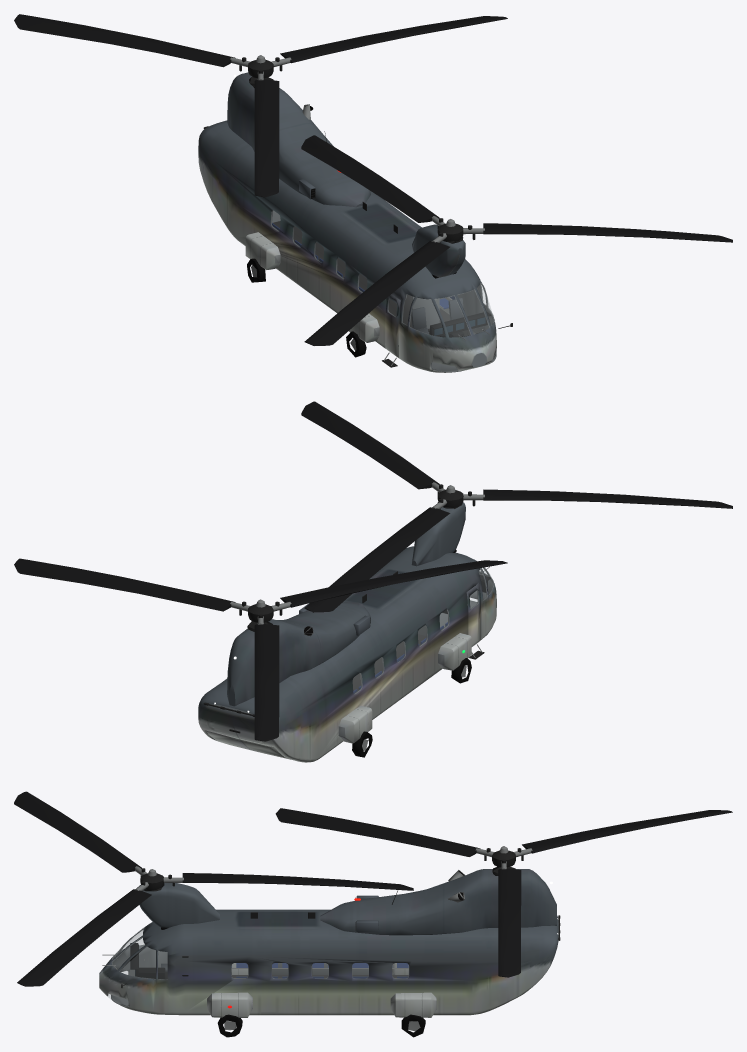
Rendered from tandem-rotor-helicopter_card.glb.
The picture shows the model from 3 angles, top to bottom: view 1: azimuth 30°, elevation 25°; view 2: azimuth 150°, elevation 25°; view 3: azimuth 270°, elevation 25°; orthographic projection. The views are drawn at different scales.
Visible parts, largest first — view 1: fuselage, upper_and_sponsons, rear_rotor_blades_mesh, front_rotor_blades_mesh, glass_0, interior, rear_rotor_hub_mesh, front_rotor_hub_mesh, door_crew_skin, landing_gear; view 2: fuselage, upper_and_sponsons, rear_rotor_blades_mesh, front_rotor_blades_mesh, rear_rotor_hub_mesh, front_rotor_hub_mesh, interior, landing_gear, door_crew_skin, ramp_skin; view 3: fuselage, upper_and_sponsons, rear_rotor_blades_mesh, front_rotor_blades_mesh, glass_0, interior, landing_gear, rear_rotor_hub_mesh, front_rotor_hub_mesh.
Part boxes in pixels (x1=…): fuselage: x1=198, y1=120, x2=496, y2=372; upper_and_sponsons: x1=203, y1=72, x2=512, y2=367; rear_rotor_blades_mesh: x1=14, y1=14, x2=507, y2=197; front_rotor_blades_mesh: x1=301, y1=135, x2=732, y2=345; glass_0: x1=402, y1=283, x2=496, y2=371; interior: x1=272, y1=221, x2=491, y2=337; rear_rotor_hub_mesh: x1=230, y1=55, x2=291, y2=80; front_rotor_hub_mesh: x1=431, y1=216, x2=484, y2=243; door_crew_skin: x1=385, y1=294, x2=400, y2=357; landing_gear: x1=247, y1=258, x2=366, y2=357; fuselage: x1=198, y1=546, x2=496, y2=762; upper_and_sponsons: x1=203, y1=502, x2=489, y2=743; rear_rotor_blades_mesh: x1=14, y1=558, x2=507, y2=741; front_rotor_blades_mesh: x1=301, y1=401, x2=732, y2=612; rear_rotor_hub_mesh: x1=230, y1=599, x2=291, y2=624; front_rotor_hub_mesh: x1=432, y1=482, x2=484, y2=509; interior: x1=352, y1=550, x2=491, y2=693; landing_gear: x1=352, y1=658, x2=471, y2=757; door_crew_skin: x1=466, y1=583, x2=480, y2=646; ramp_skin: x1=205, y1=730, x2=290, y2=759; fuselage: x1=99, y1=909, x2=558, y2=1015; upper_and_sponsons: x1=102, y1=866, x2=560, y2=1017; rear_rotor_blades_mesh: x1=275, y1=808, x2=732, y2=977; front_rotor_blades_mesh: x1=14, y1=791, x2=413, y2=986; glass_0: x1=107, y1=928, x2=167, y2=1005; interior: x1=130, y1=927, x2=408, y2=979; landing_gear: x1=217, y1=1014, x2=425, y2=1037; rear_rotor_hub_mesh: x1=475, y1=846, x2=532, y2=869; front_rotor_hub_mesh: x1=135, y1=866, x2=183, y2=890.
Bounding box in the file's own units: 17.08 × 6.41 × 25.05.
Materials: 22 (1 with a texture image).
